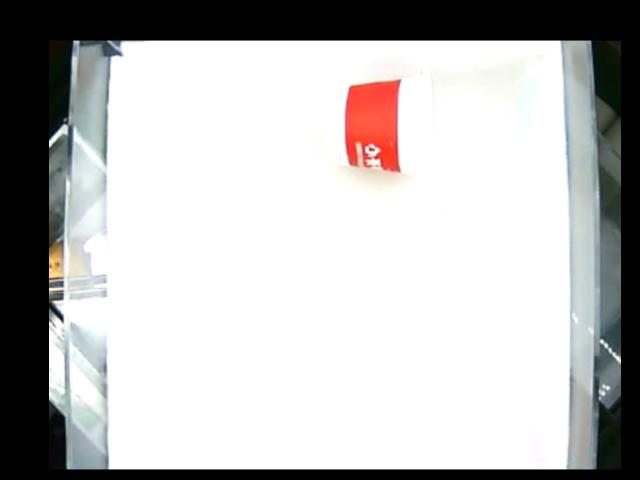Cup: (321, 70, 441, 177)
